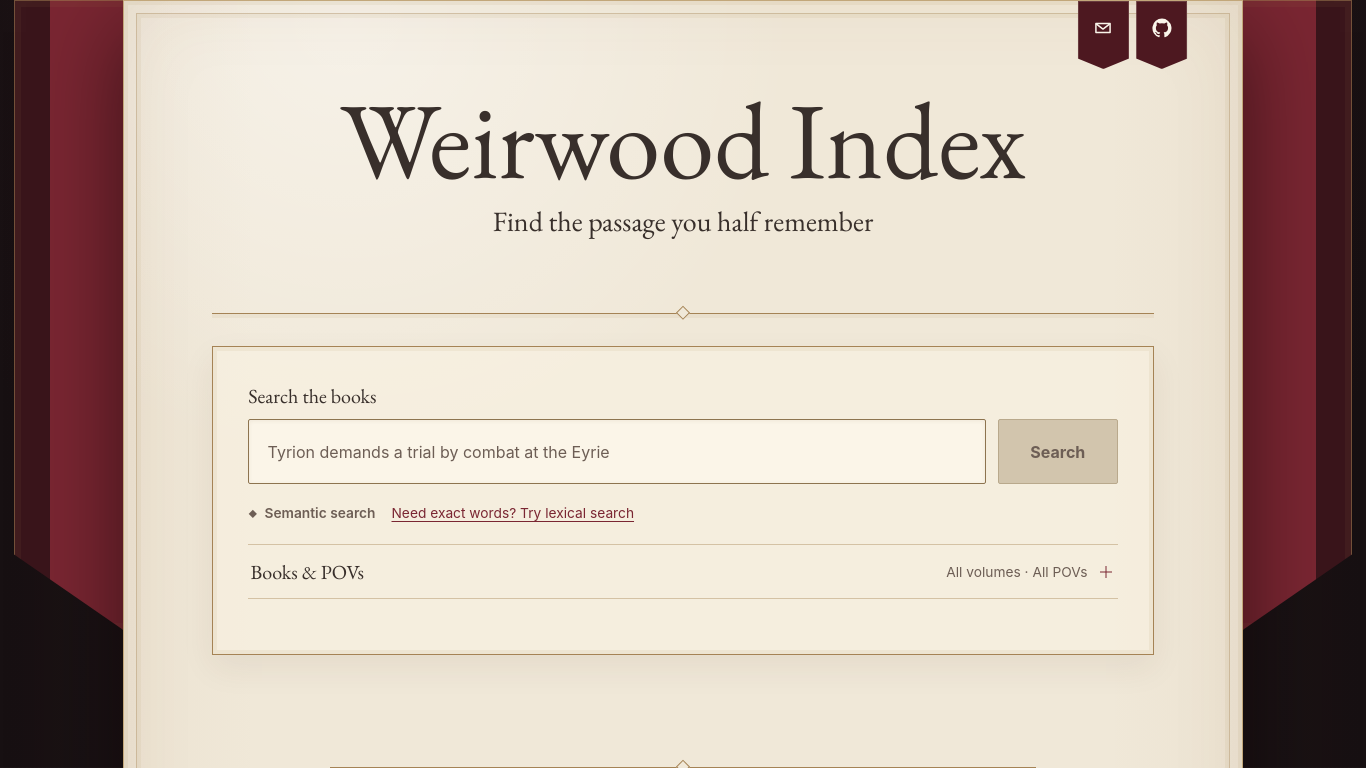
Test: App › keeps search disabled until the query has three characters
Expected: the button "Search" is disabled, [998,419,1118,484]
Type "ty" into the search field labelled "Search the books" at point(617, 452), box [248,419,986,484]
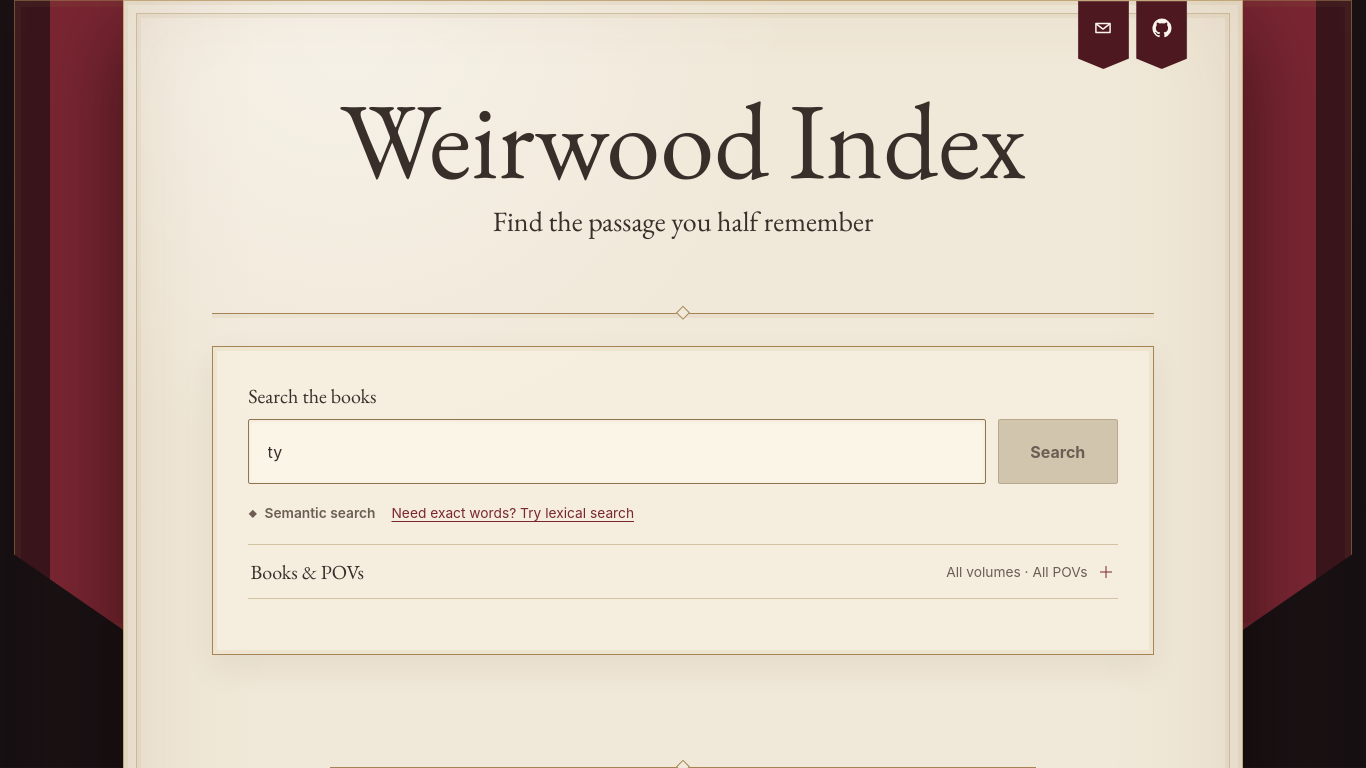
Expected: the button "Search" is disabled, [998,419,1118,484]
Replace the text in the search field labelled "Search the books" with "tyr" at point(617, 452), box [248,419,986,484]
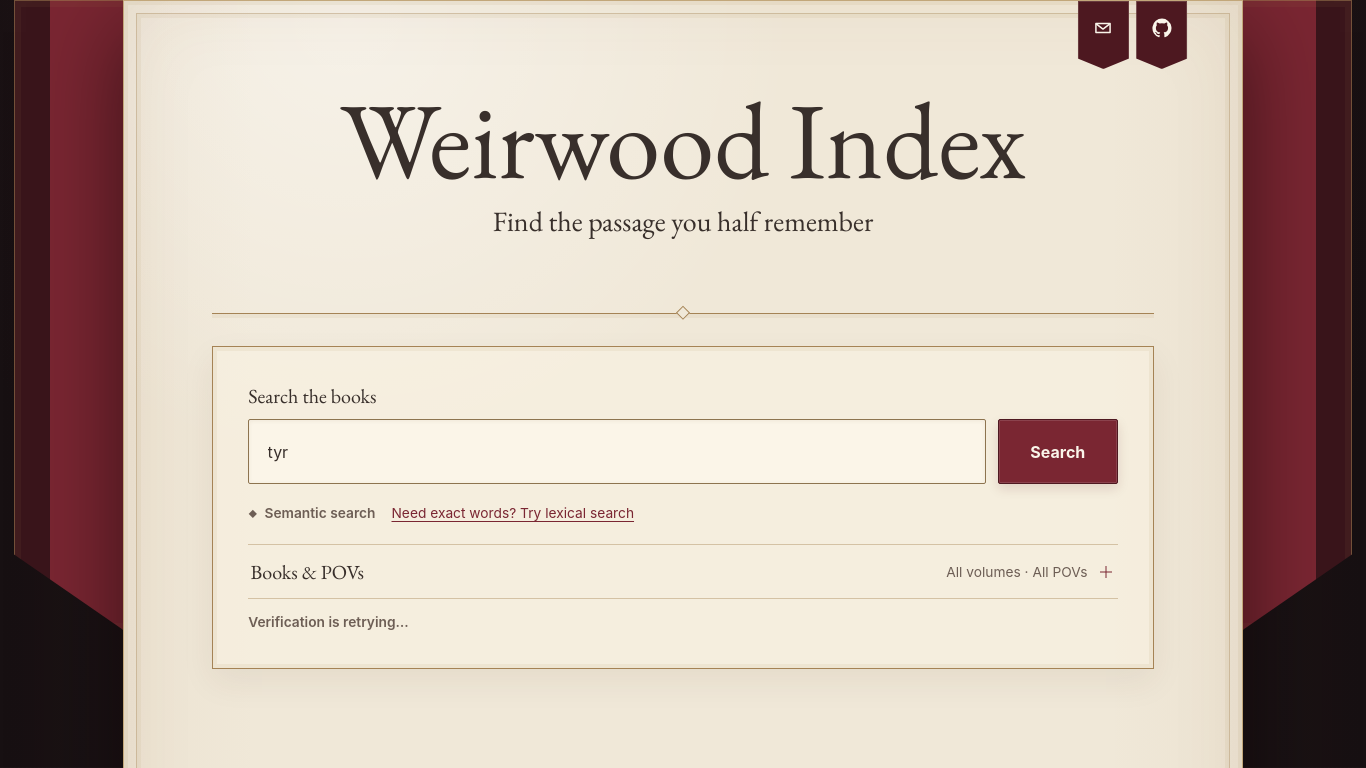
Now the button "Search" is enabled, box [998,419,1118,484]
